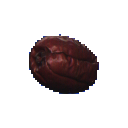ng: (24, 31, 108, 102)
